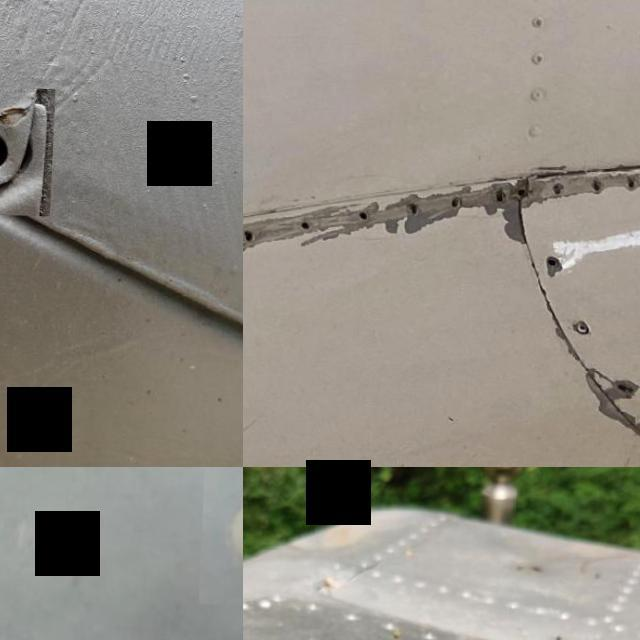Crack: (512, 154, 640, 184)
Missing_Fastener: (0, 84, 57, 214), (202, 467, 243, 605), (243, 228, 258, 241), (548, 254, 564, 265), (302, 216, 314, 230), (452, 194, 464, 206), (360, 208, 372, 220)
